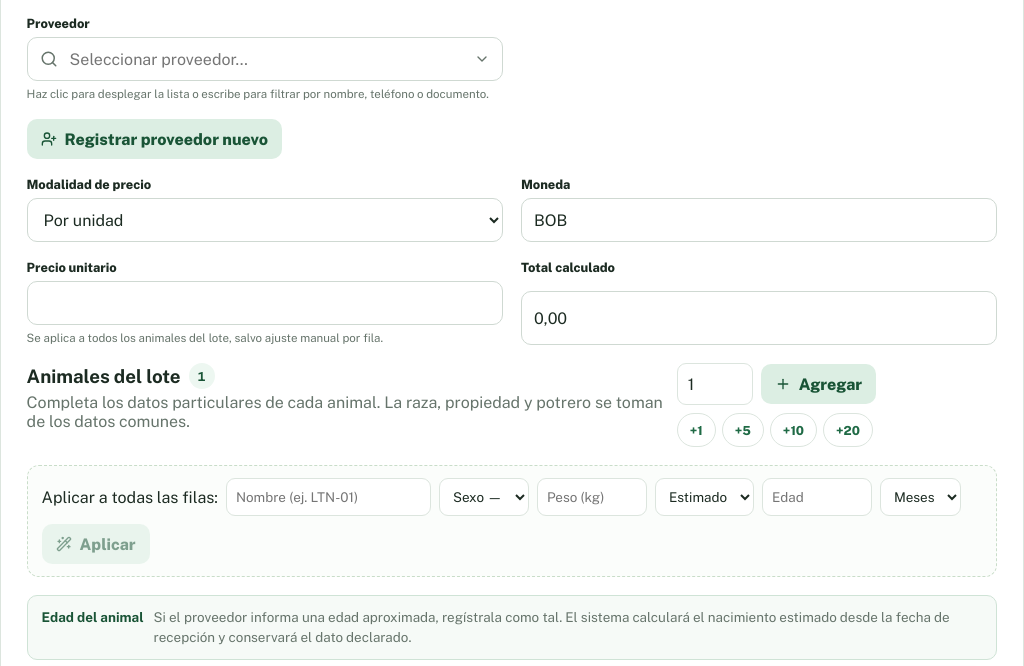
Scenario: IngresoLotePage › aplica nombres correlativos a todas las filas del lote según el patrón ingresado
This screenshot has width=1024, height=666.
(page scrolled)
# Agregar 2 filas más (3 filas en total)
Click the button "Agregar" at (818, 384), box x1=761 y1=364 x2=876 y2=404
(page scrolled)
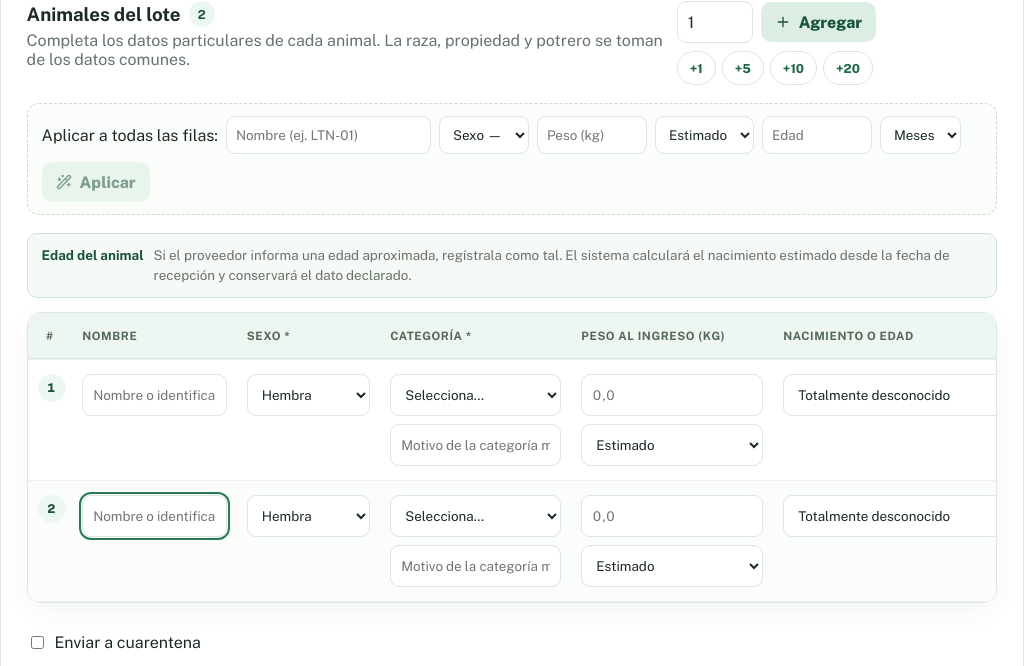
Click the button "Agregar" at (818, 22), box x1=761 y1=2 x2=876 y2=42
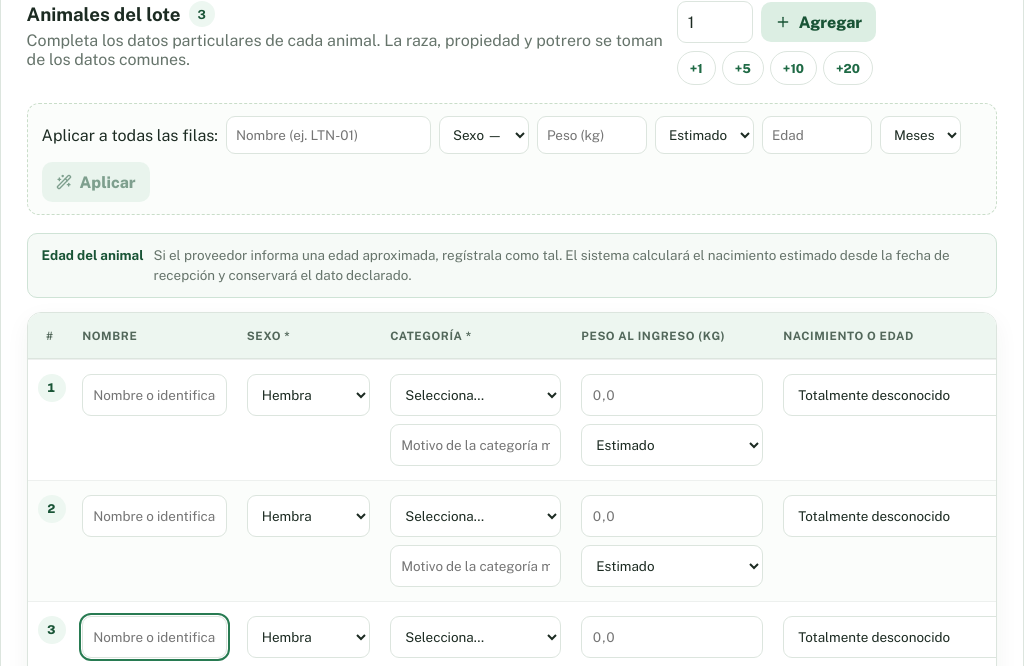
Type "LTN-01" into the field named "Nombre o prefijo correlativo a aplicar en lote" at (328, 135), box x1=226 y1=116 x2=431 y2=154
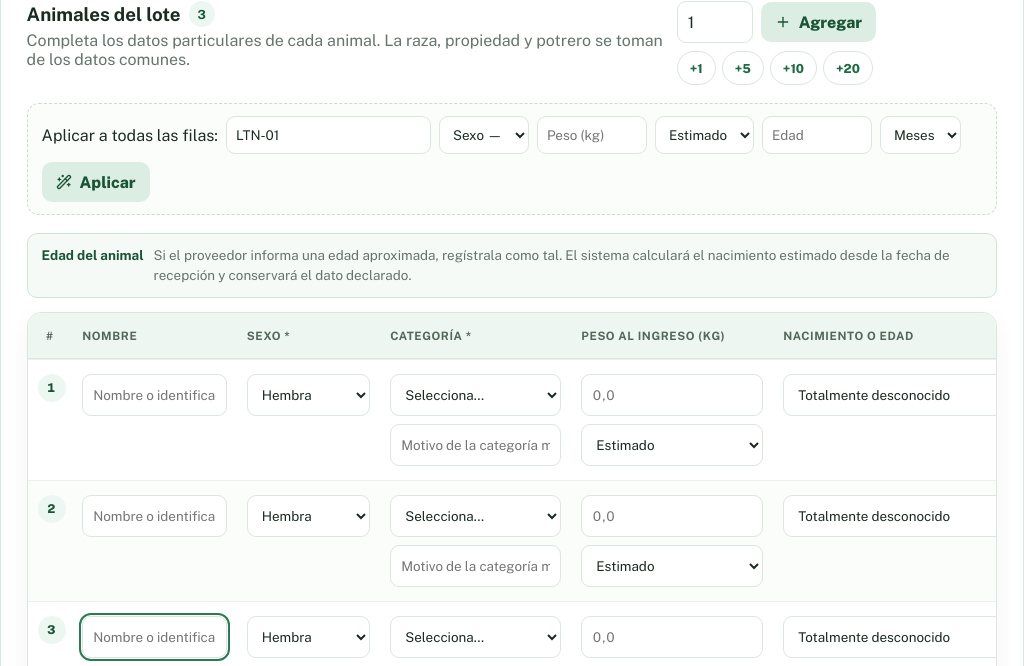
Click the button "Aplicar" at (96, 182), box x1=42 y1=162 x2=150 y2=202
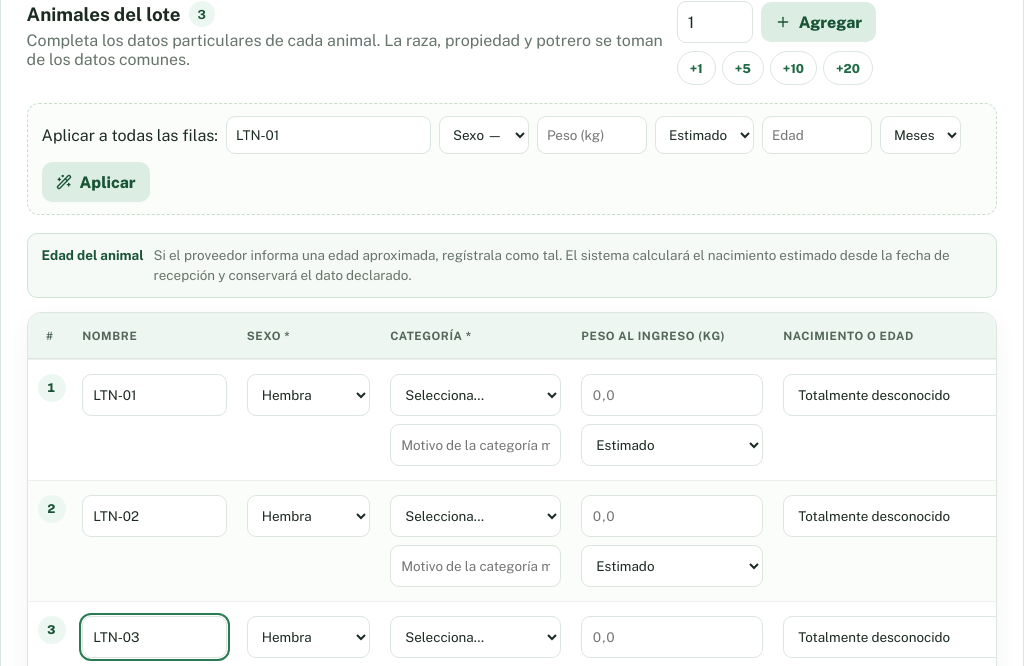
Now the field named "Nombre del animal 1" holds "LTN-01", box x1=82 y1=374 x2=227 y2=416
Now the field named "Nombre del animal 2" holds "LTN-02", box x1=82 y1=495 x2=227 y2=537
Now the field named "Nombre del animal 3" holds "LTN-03", box x1=82 y1=616 x2=227 y2=658
# Probar con otro patrón
Replace the text in the field named "Nombre o prefijo correlativo a aplicar en lote" with "Toro" at (328, 135), box x1=226 y1=116 x2=431 y2=154
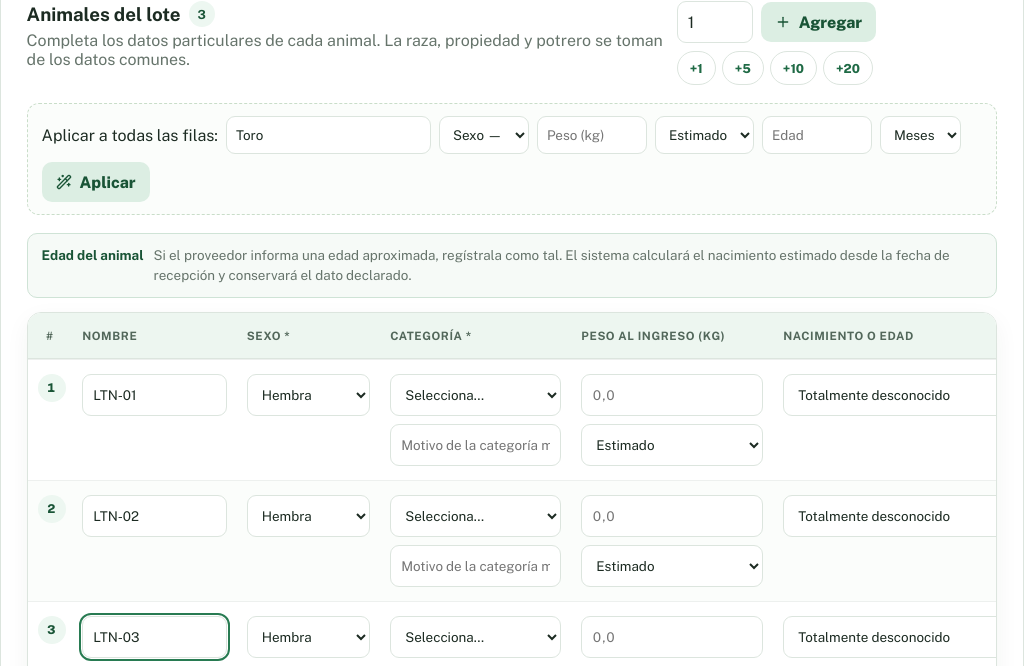
Click the button "Aplicar" at (96, 182), box x1=42 y1=162 x2=150 y2=202
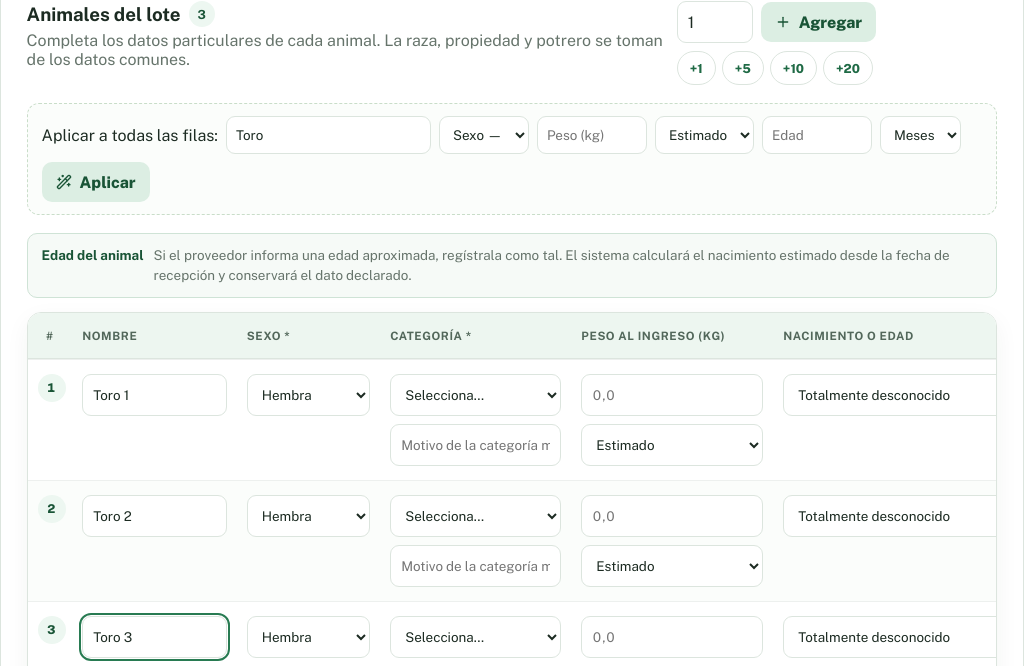
Now the field named "Nombre del animal 1" holds "Toro 1", box x1=82 y1=374 x2=227 y2=416
Now the field named "Nombre del animal 2" holds "Toro 2", box x1=82 y1=495 x2=227 y2=537
Now the field named "Nombre del animal 3" holds "Toro 3", box x1=82 y1=616 x2=227 y2=658
